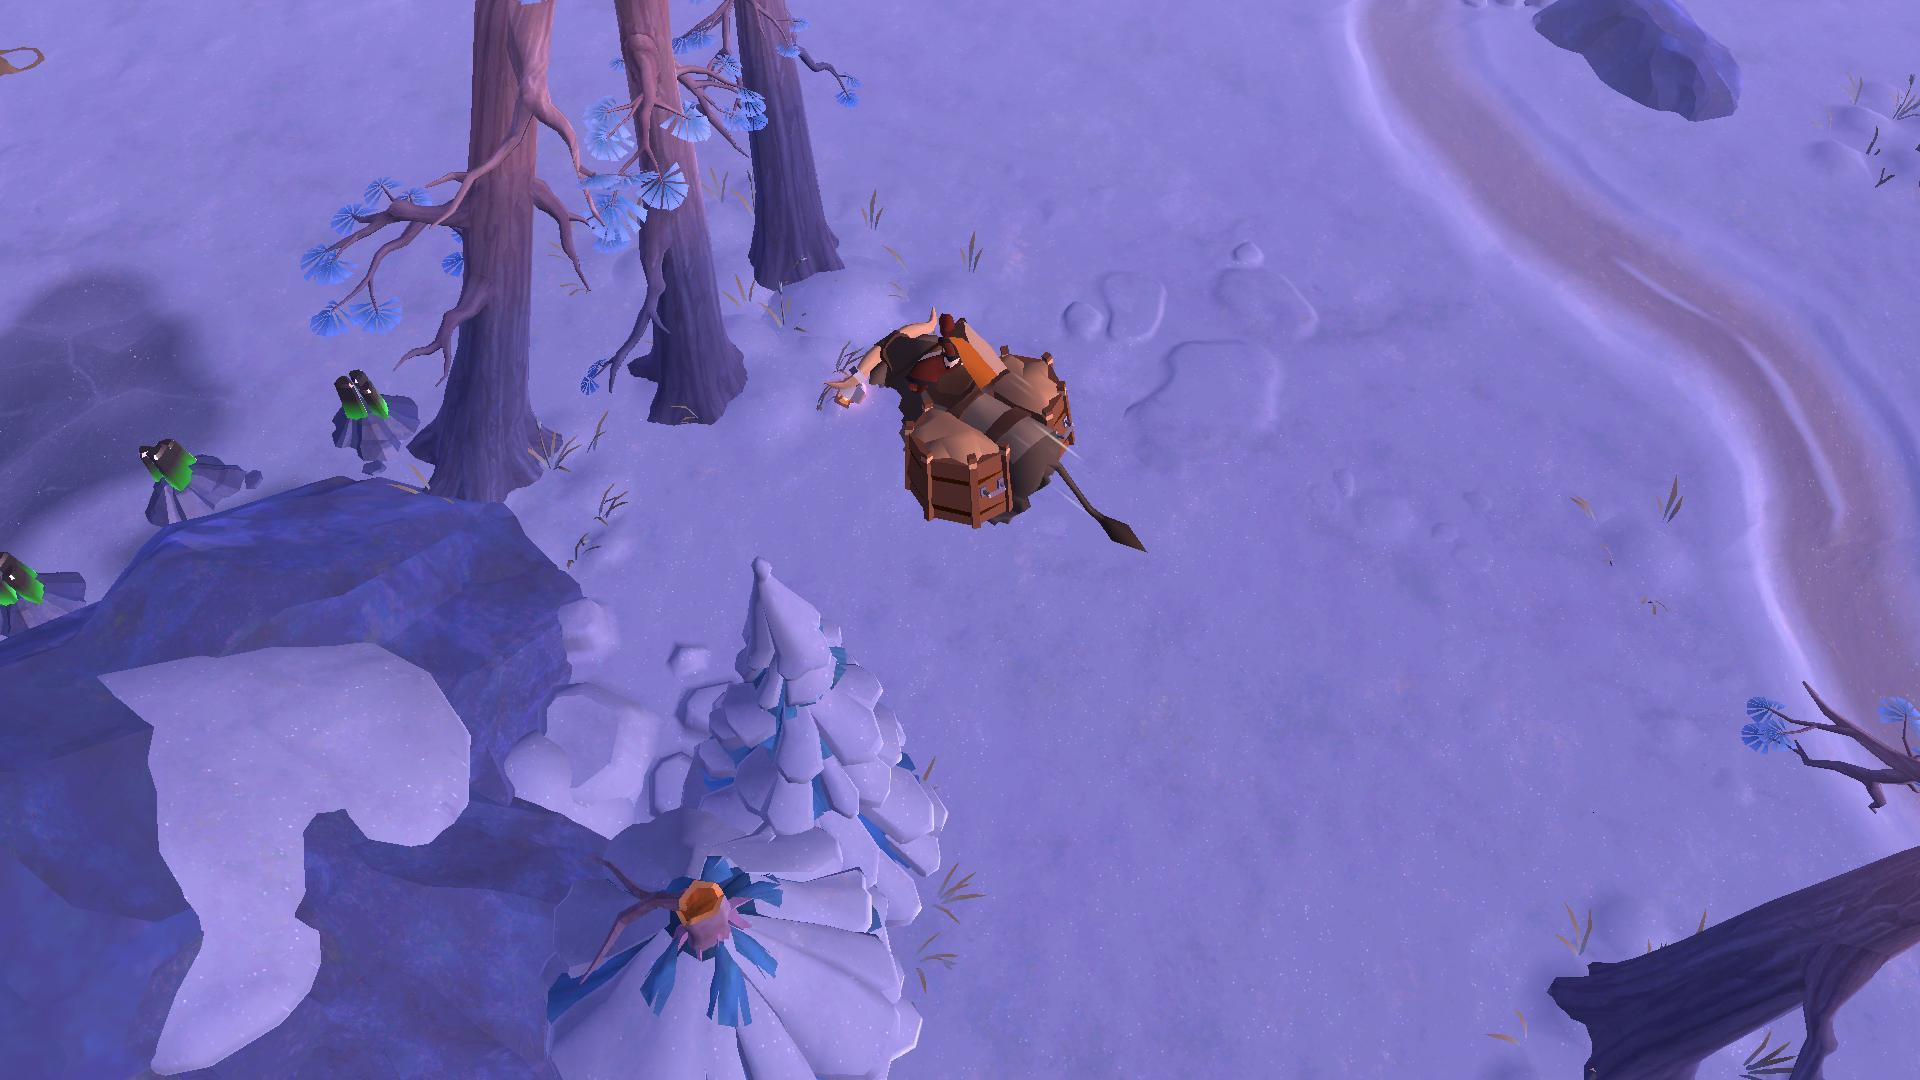ore_t3: (327, 360, 385, 427), (138, 430, 194, 493), (0, 537, 41, 609)
